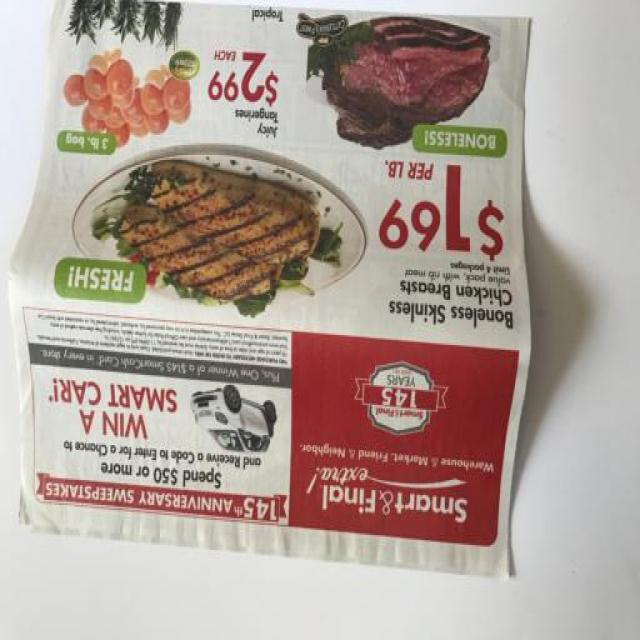paper: (1, 1, 551, 603)
